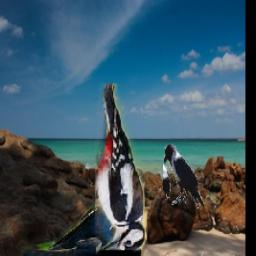Crow: (164, 145, 205, 211)
Swallow: (6, 185, 149, 256)
Woodpecker: (95, 83, 145, 250)
